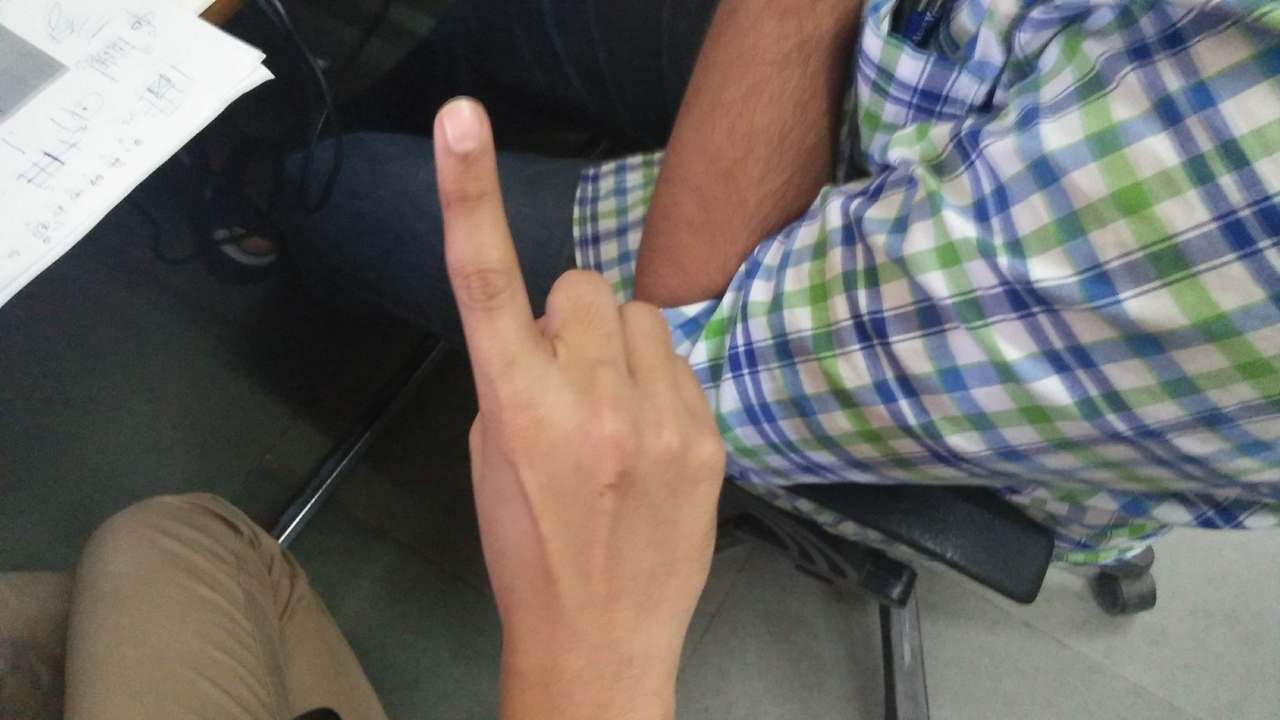fingertip: (422, 90, 498, 156)
